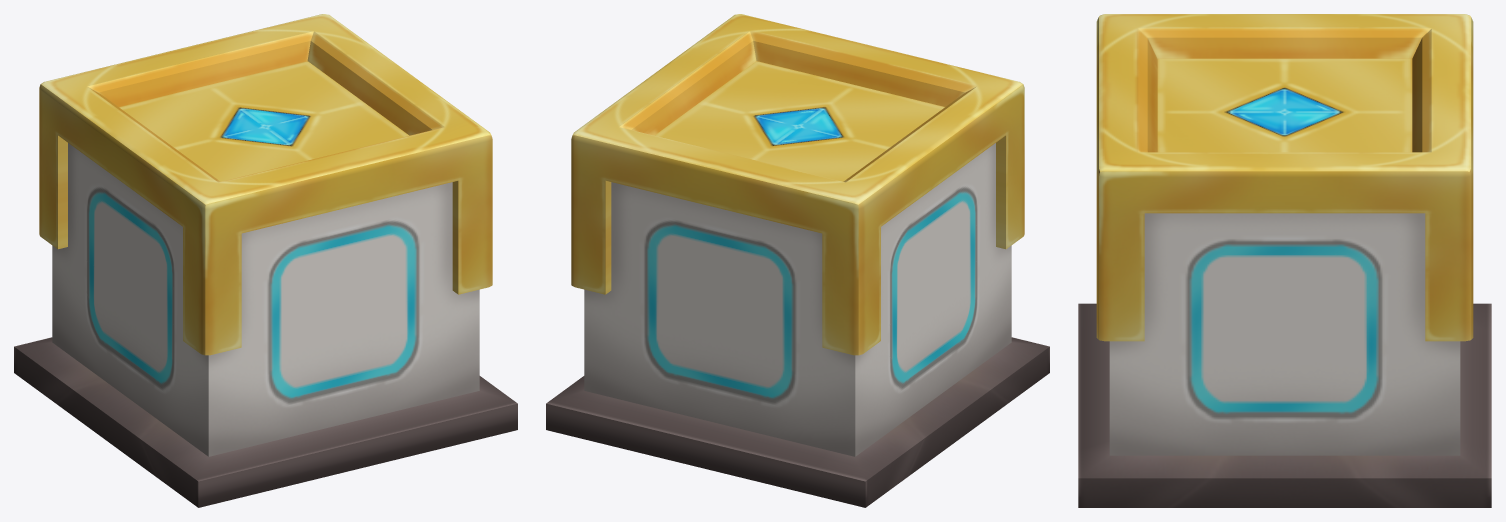
The model's file is S6_InF_Block_003.fbx.
3 views of the same model, side by side, from view 1: azimuth 30°, elevation 25°; view 2: azimuth 150°, elevation 25°; view 3: azimuth 270°, elevation 25° (orthographic). The views are drawn at different scales.
Parts seen in each view (by area): view 1: BockMain1; view 2: BockMain1; view 3: BockMain1.
Part boxes in pixels (x1,y1,x2,y2): BockMain1: [14, 14, 517, 507]; BockMain1: [546, 14, 1049, 507]; BockMain1: [1078, 14, 1491, 507].
Bounding box in the file's own units: 0.9969 × 0.8786 × 0.9969.
